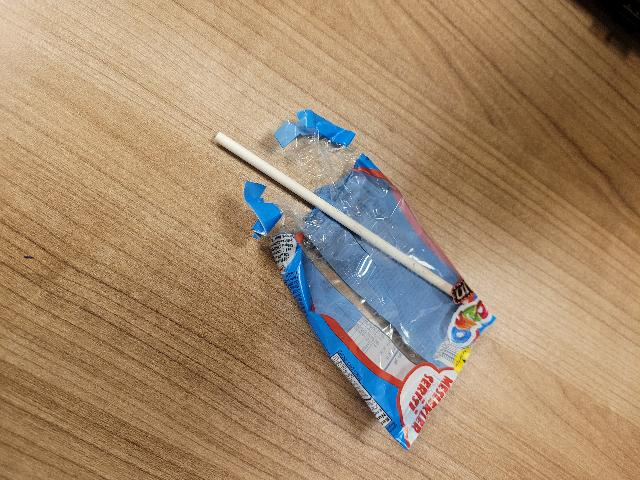Plastik: (213, 106, 512, 458)
